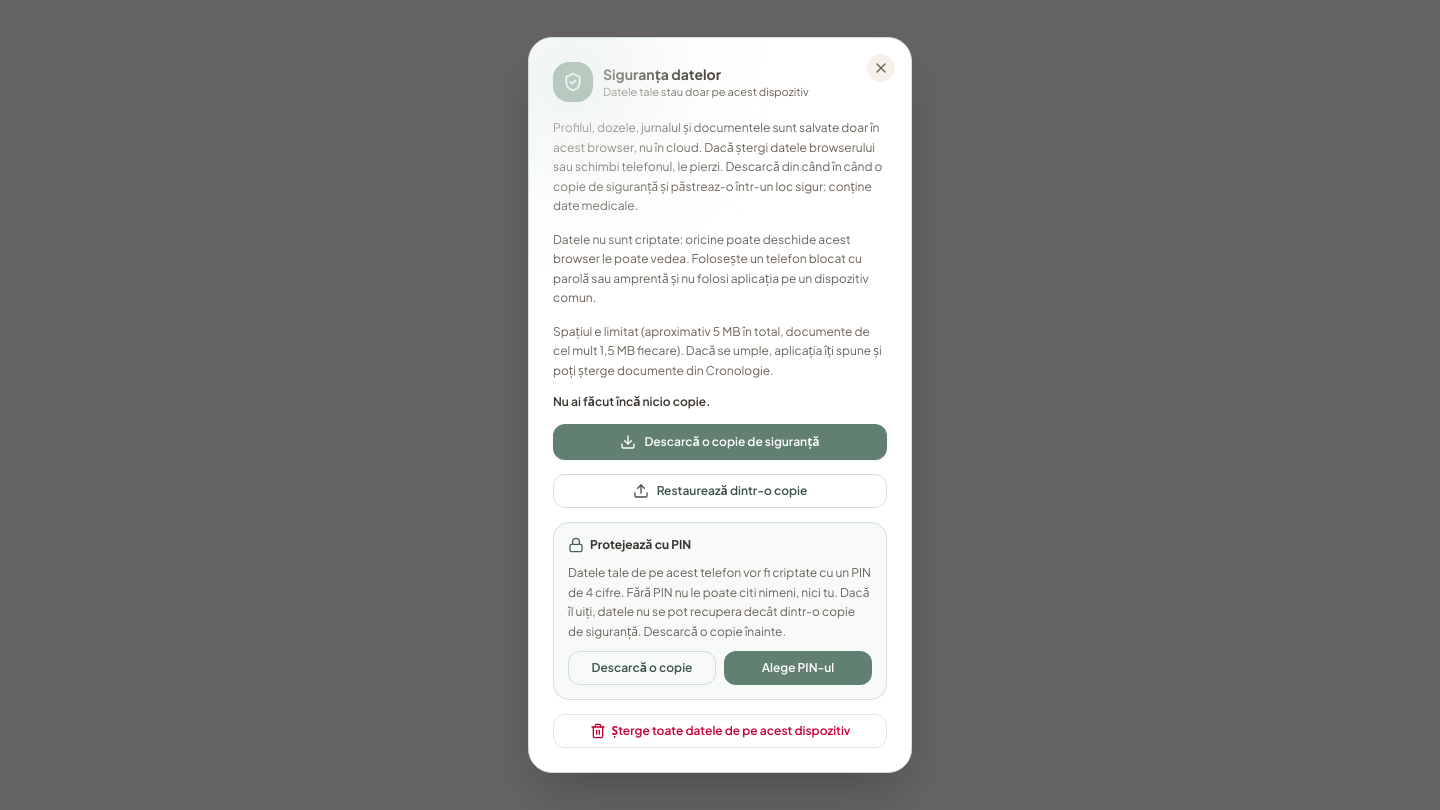
Test case: Protejează cu PIN › cere aceleași 4 cifre de două ori, apoi activează PIN-ul
Expected: the text "criptate cu un PIN de 4 cifre" is shown, [568, 565, 871, 638]
Click the button "Alege PIN-ul" at (798, 668), box [724, 651, 872, 685]
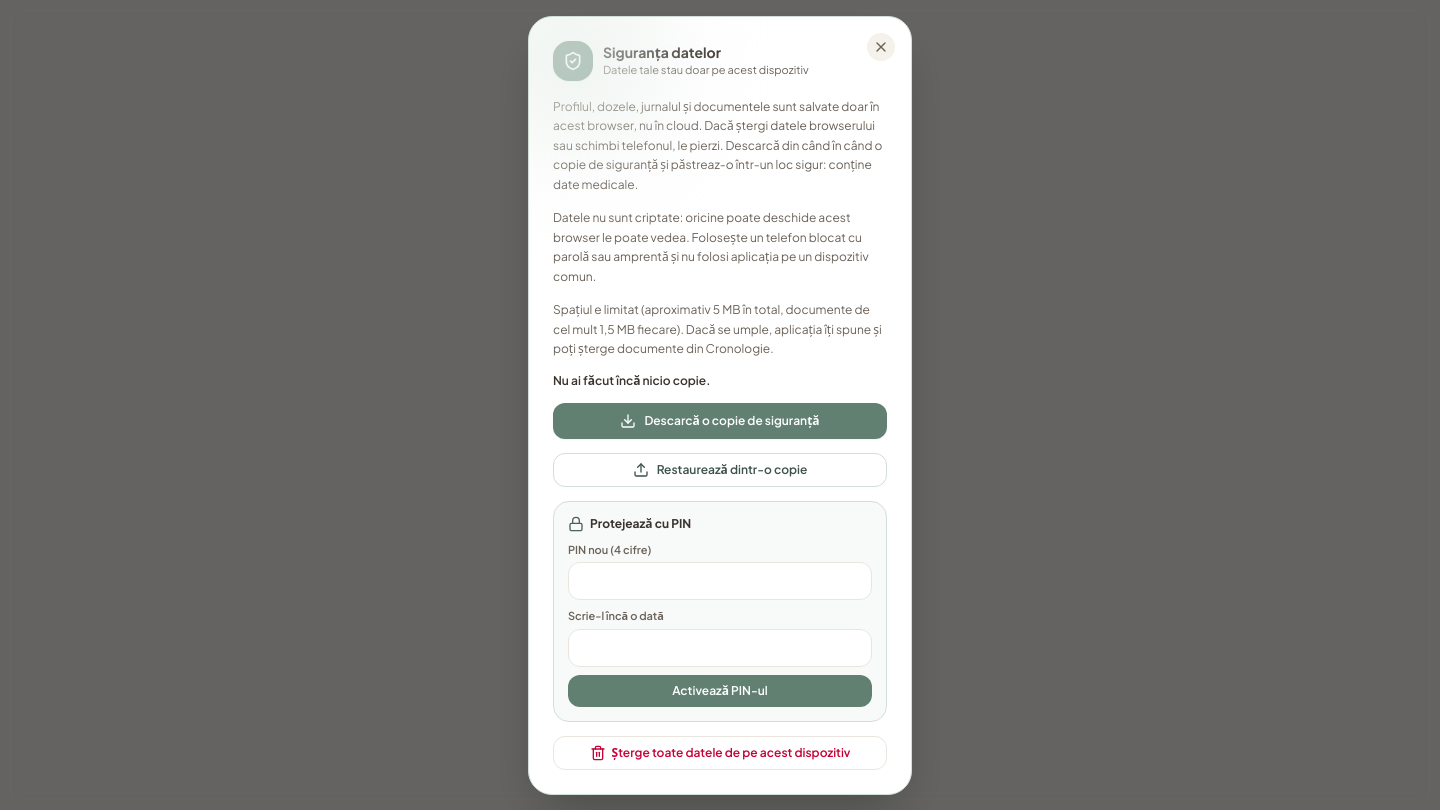
Type "1234" into the password field labelled "PIN nou (4 cifre)" at (720, 581), box [568, 562, 872, 600]
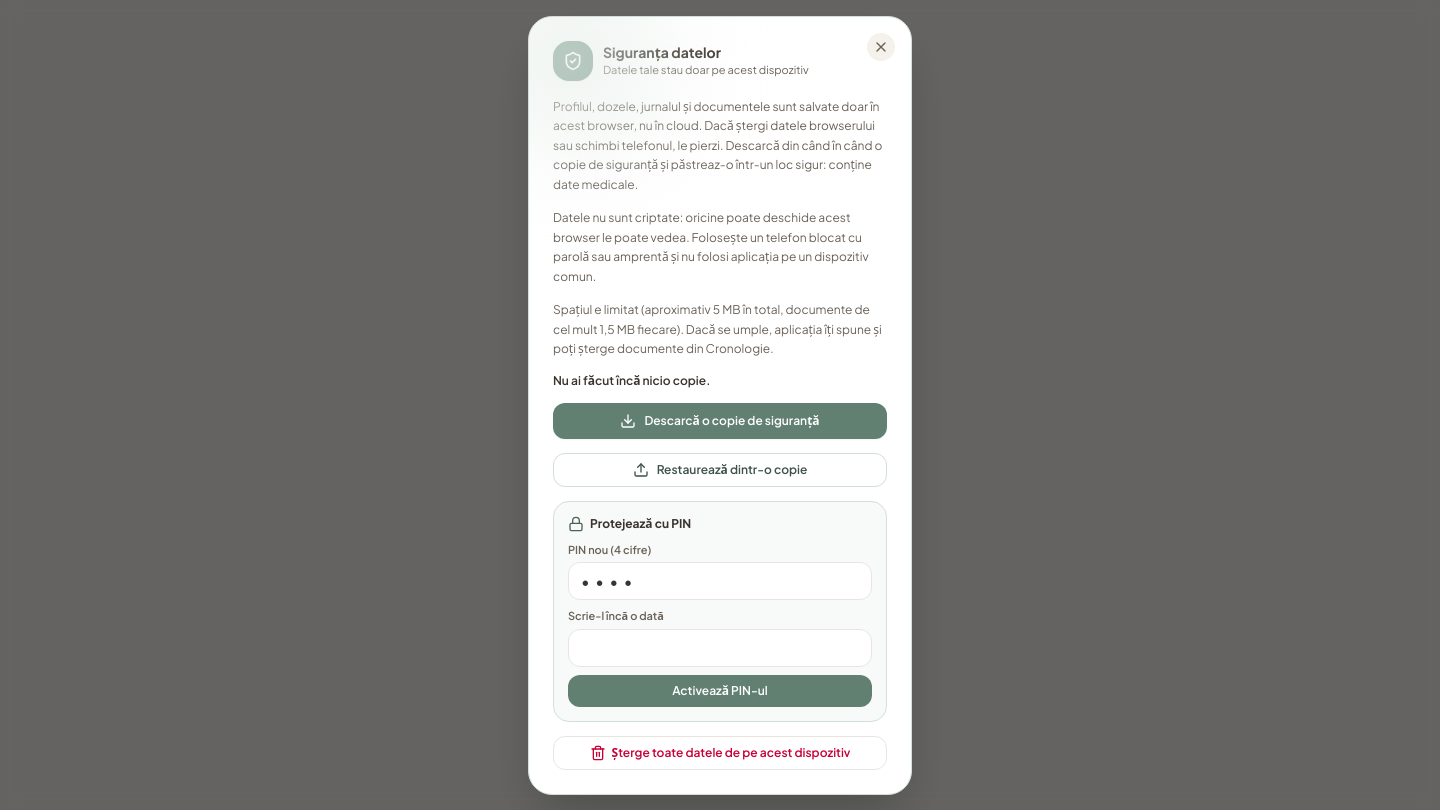
Type "1235" into the password field labelled "Scrie-l încă o dată" at (720, 648), box [568, 628, 872, 666]
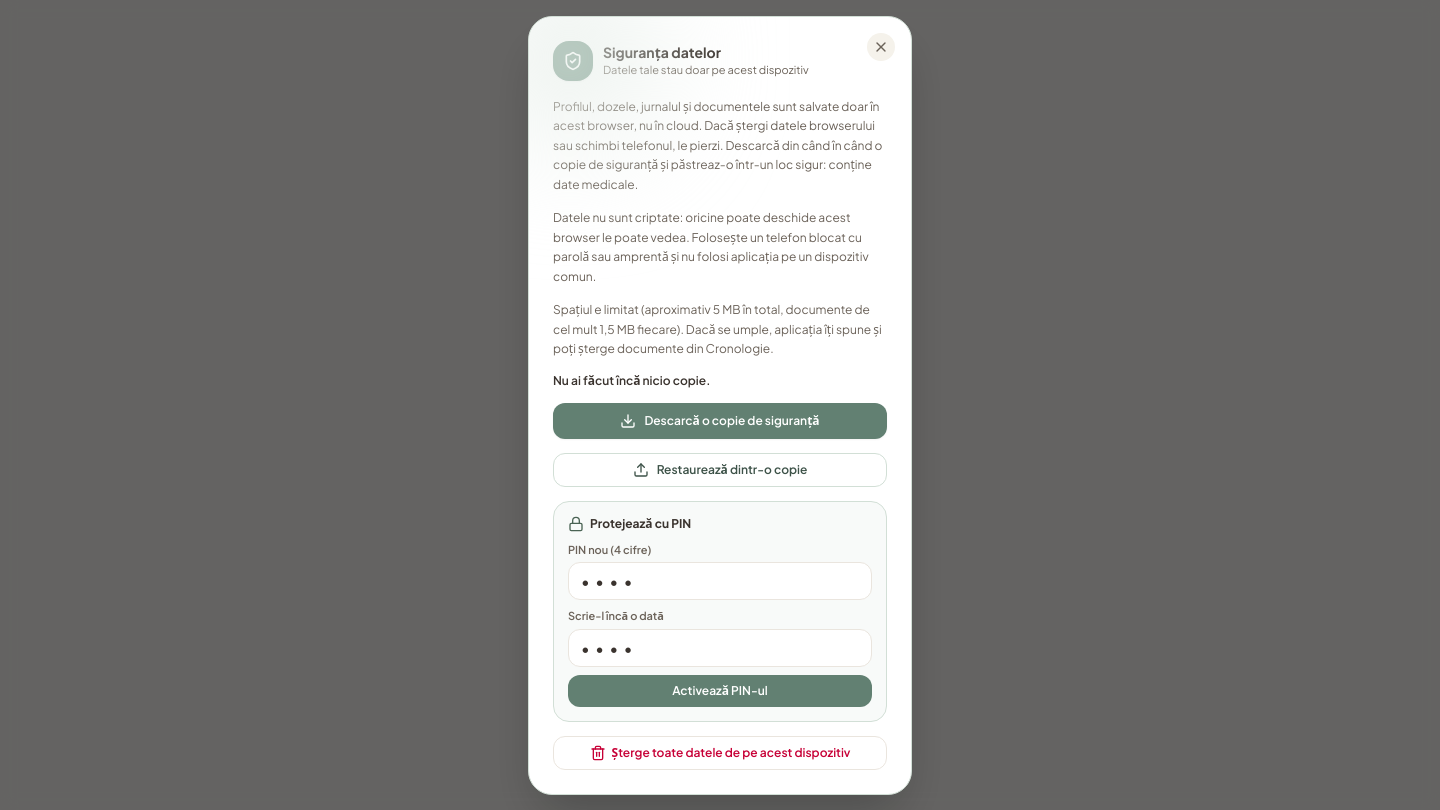
Click the button "Activează PIN-ul" at (720, 690), box [568, 674, 872, 706]
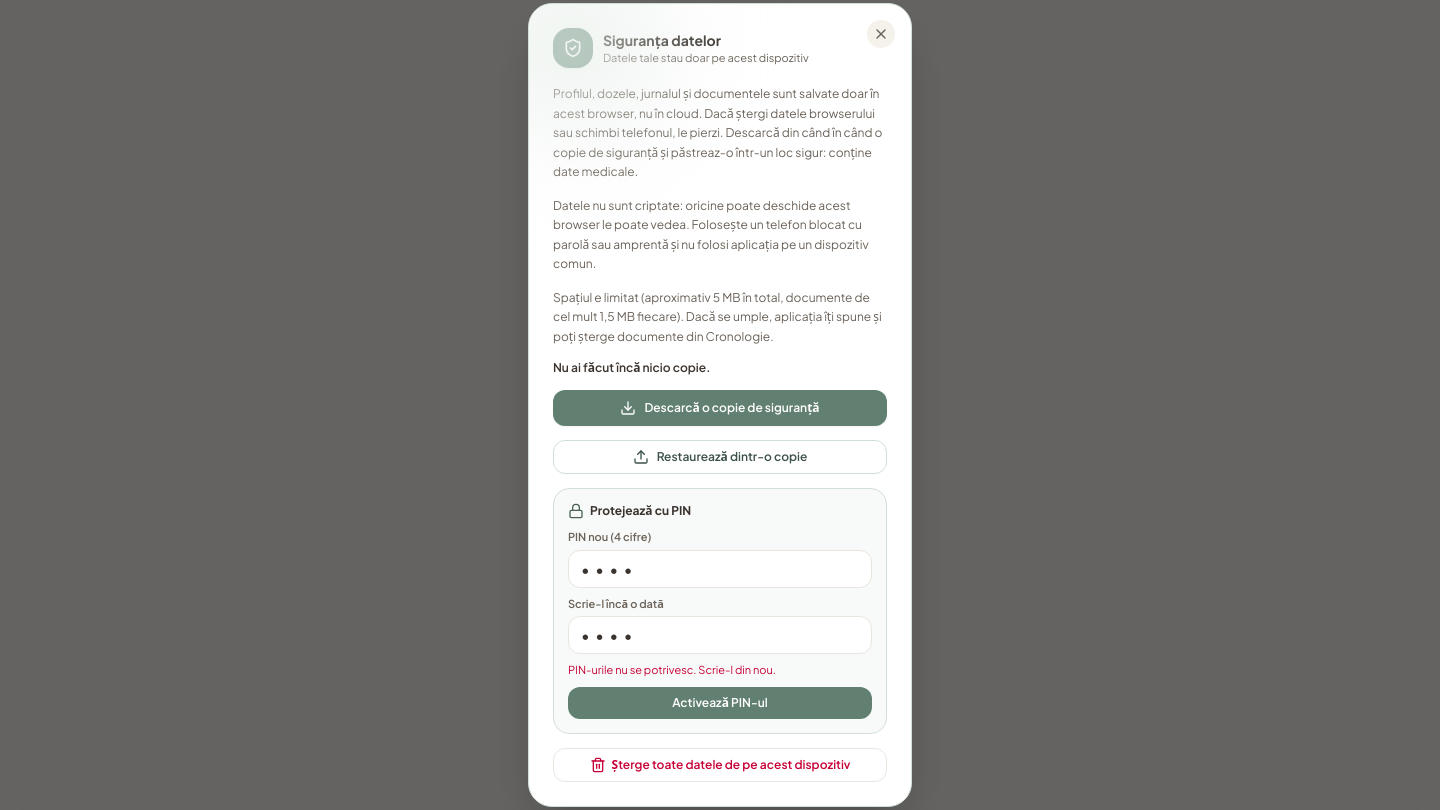
Expected: the message reads "PIN-urile nu se potrivesc. Scrie-l din nou.", [568, 663, 776, 676]
Type "1234" into the password field labelled "Scrie-l încă o dată" at (720, 635), box [568, 616, 872, 654]
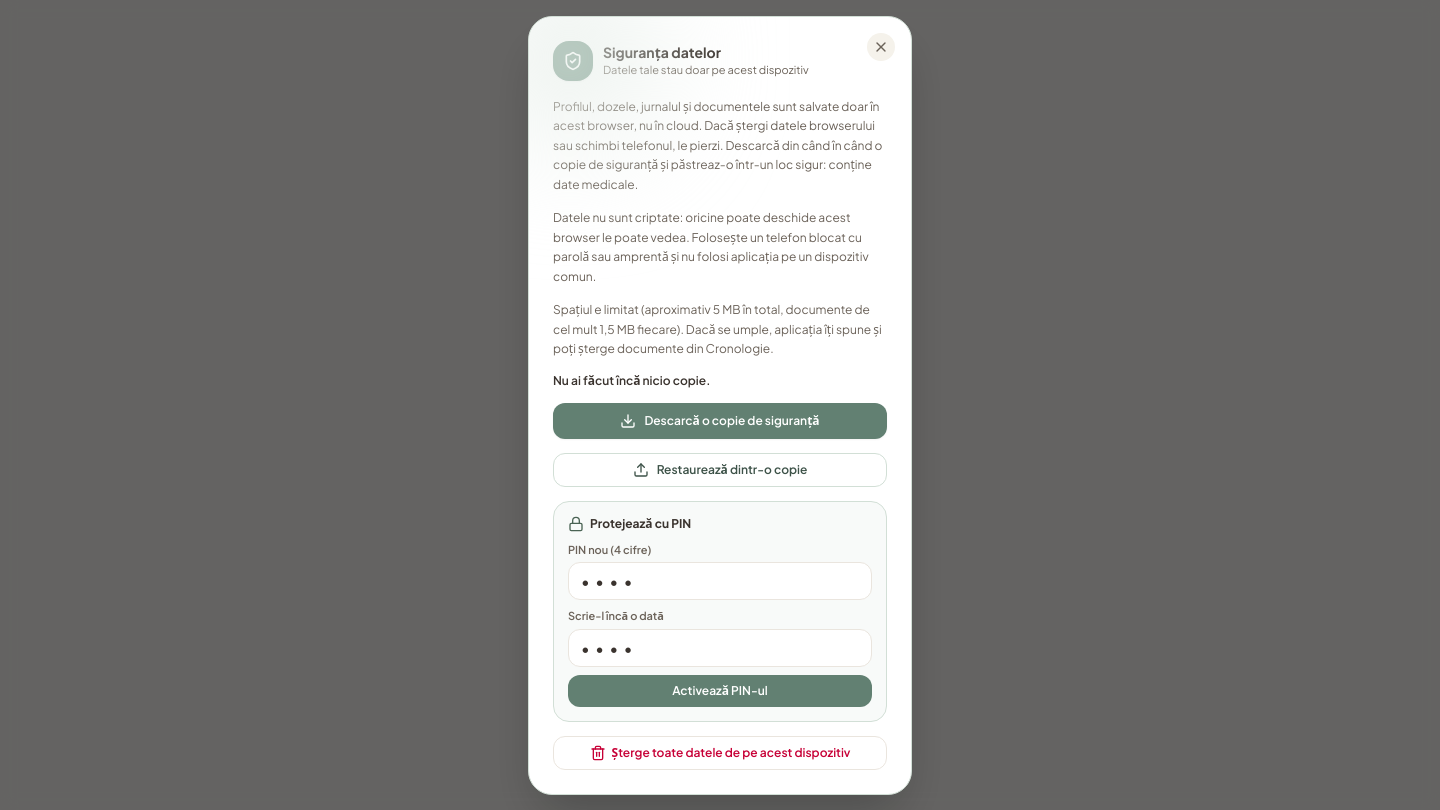
Click the button "Activează PIN-ul" at (720, 690), box [568, 674, 872, 706]
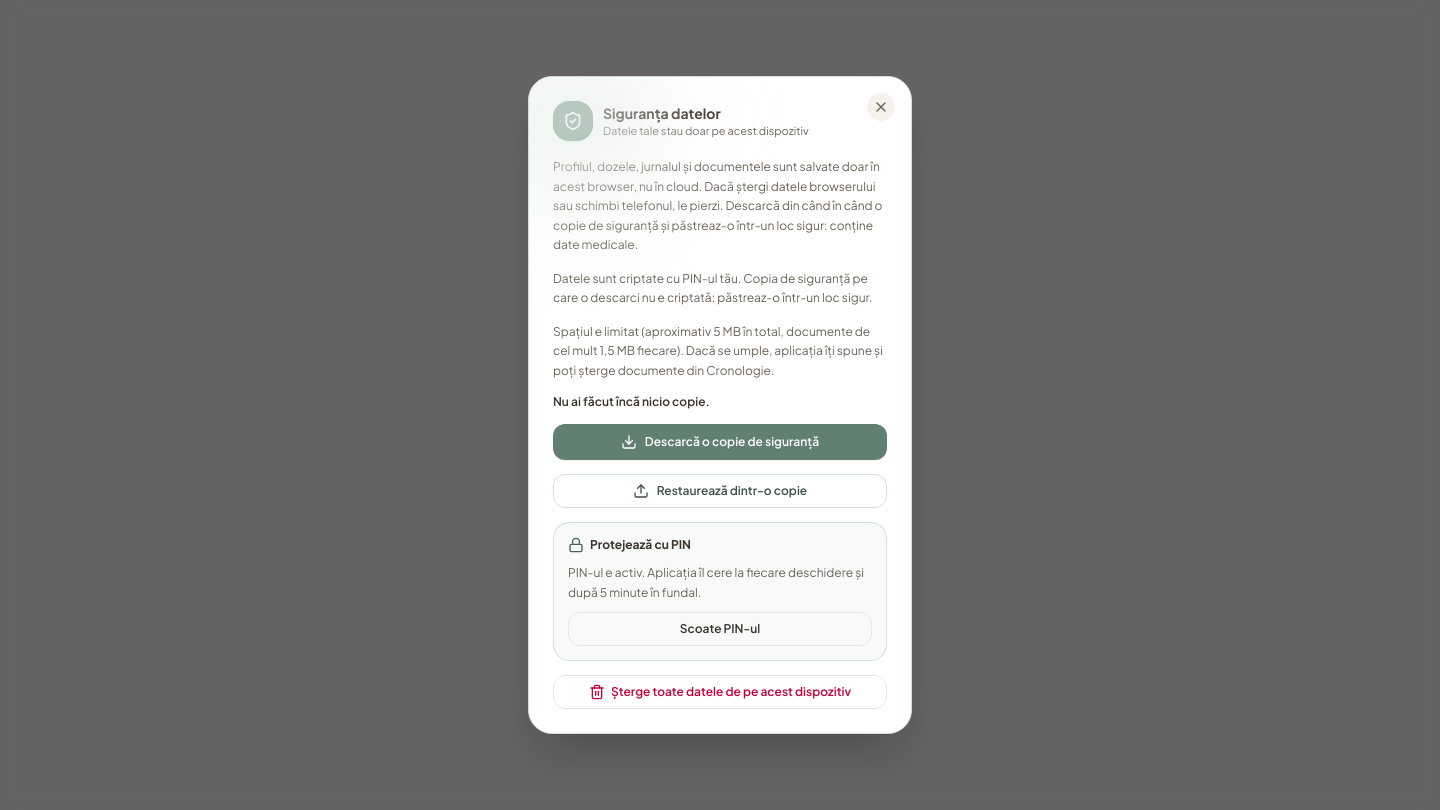
Expected: the text "PIN-ul e activ" is shown, [568, 565, 864, 600]
Expected: the text "Datele sunt criptate cu PIN-ul tău" is shown, [553, 270, 872, 305]
Expected: the text "Datele nu sunt criptate" is gone
